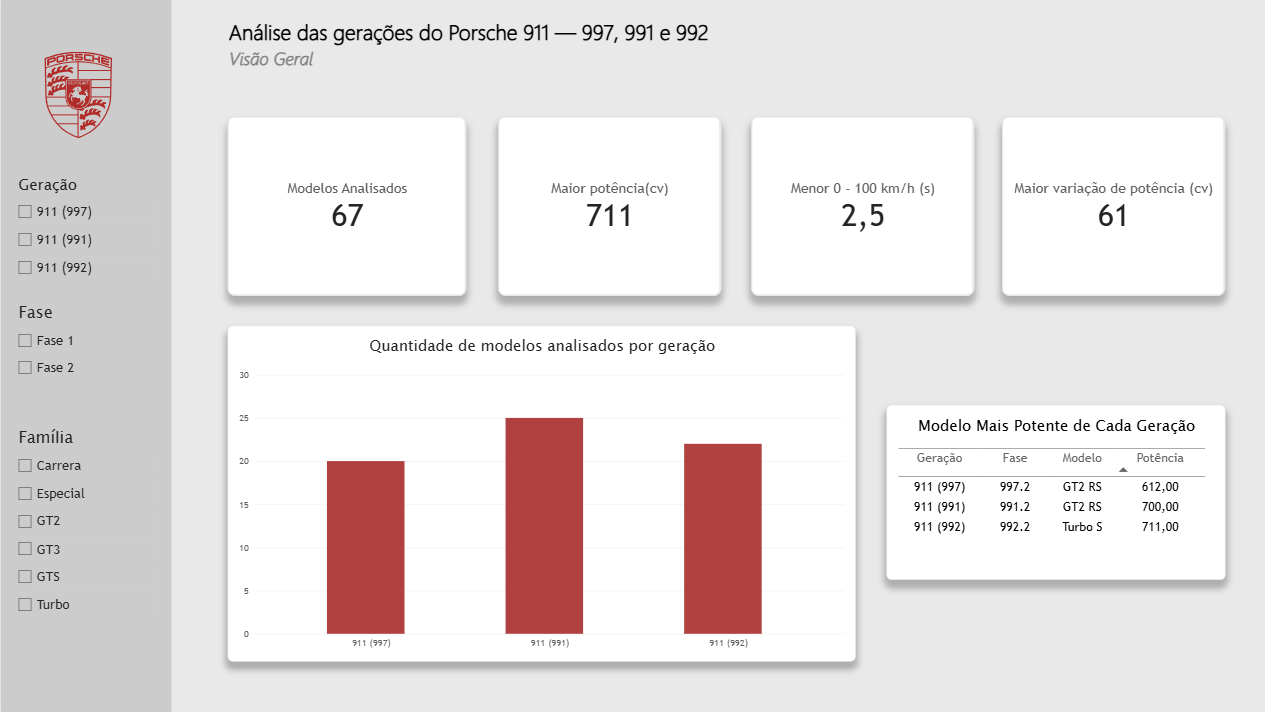

The page's visual inventory and layout, read from the dashboard file:
{"tool":"powerbi","page":{"name":"Visão Geral","canvas":[1920,1080],"ordinal":0},"visuals":[{"type":"clusteredColumnChart","title":"Quantidade de modelos analisados por geração","fields":{"Category":["public geracoes.geracao"],"Y":["CountNonNull(public modelos.modelo)"]},"box":[343.9,492.5,952,509.1],"z":0},{"type":"tableEx","title":"Modelo Mais Potente de Cada Geração","fields":{"Values":["public modelos.geracao","public modelos.fase","public modelos.modelo","public modelos.potencia_cv"]},"box":[1341,614.2,513.6,265.8],"z":1000},{"type":"textbox","box":[344.4,26.9,1391.2,115.9],"z":2000},{"type":"cardVisual","fields":{"Data":["Max(public modelos.id_modelo)"]},"box":[343.9,177.2,361.9,271.8],"z":3000},{"type":"cardVisual","fields":{"Data":["Max(public modelos.potencia_cv)"]},"box":[753.8,177.2,337.9,271.8],"z":4000},{"type":"cardVisual","fields":{"Data":["Min(public modelos.aceleracao_0_100_s)"]},"box":[1136.7,177.2,337.9,271.8],"z":5000},{"type":"cardVisual","fields":{"Data":["public modelos.Maior_Variacao_Fase_CV"]},"box":[1516.6,177.2,337.9,271.8],"z":6000},{"type":"shape","box":[0,0,258.3,1079.7],"z":7000},{"type":"slicer","fields":{"Values":["public geracoes.geracao"]},"box":[18,262.8,214.7,186.2],"z":8000},{"type":"slicer","fields":{"Values":["public modelos.Fase_Generica"]},"box":[18,455,193.7,171.2],"z":8001},{"type":"slicer","fields":{"Values":["public modelos.familia"]},"box":[18,644.2,214.7,321.3],"z":8002},{"type":"image","box":[51.1,78.1,130.6,130.6],"z":8003}]}

Visuals, with their boxes in screenshot pixels (x1, y1, x2, y2), scaled from the page's 1920x1080 canvas onto the 1265x712 screenshot:
"Quantidade de modelos analisados por geração" clusteredColumnChart: <box>227,325,854,660</box>
"Modelo Mais Potente de Cada Geração" tableEx: <box>884,405,1222,580</box>
textbox: <box>227,18,1144,94</box>
cardVisual - Max(public modelos.id_modelo): <box>227,117,465,296</box>
cardVisual - Max(public modelos.potencia_cv): <box>497,117,719,296</box>
cardVisual - Min(public modelos.aceleracao_0_100_s): <box>749,117,972,296</box>
cardVisual - public modelos.Maior_Variacao_Fase_CV: <box>999,117,1222,296</box>
shape: <box>0,0,170,711</box>
slicer - public geracoes.geracao: <box>12,173,153,296</box>
slicer - public modelos.Fase_Generica: <box>12,300,139,413</box>
slicer - public modelos.familia: <box>12,425,153,637</box>
image: <box>34,51,120,138</box>
